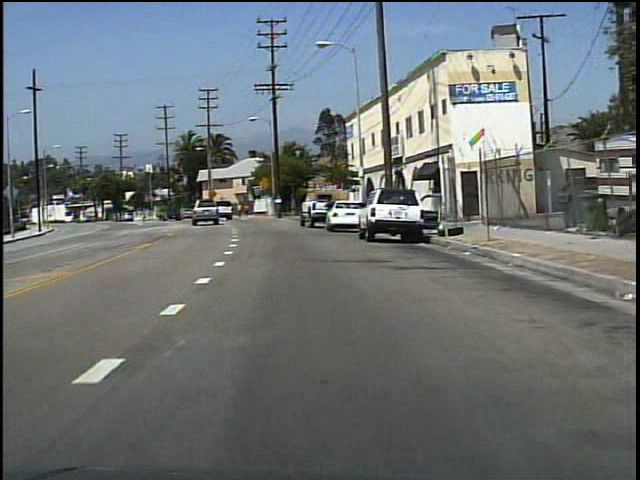person: (322, 194, 340, 231), (236, 199, 245, 220), (244, 202, 253, 220)
